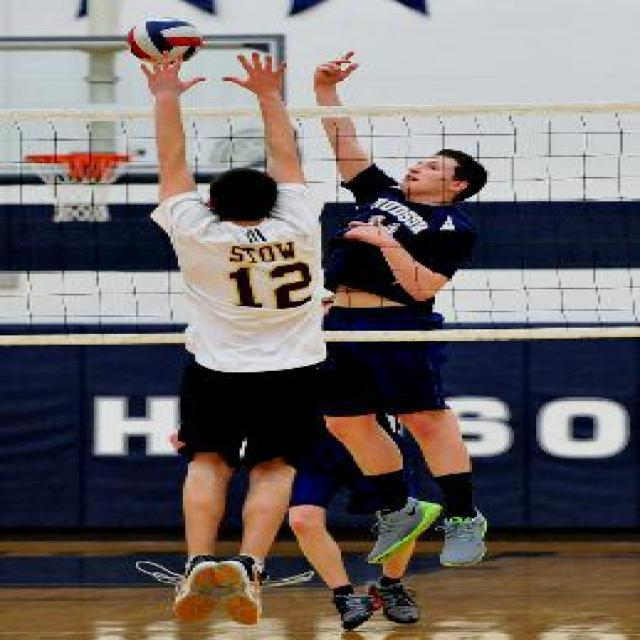volleyball: (127, 16, 201, 64)
